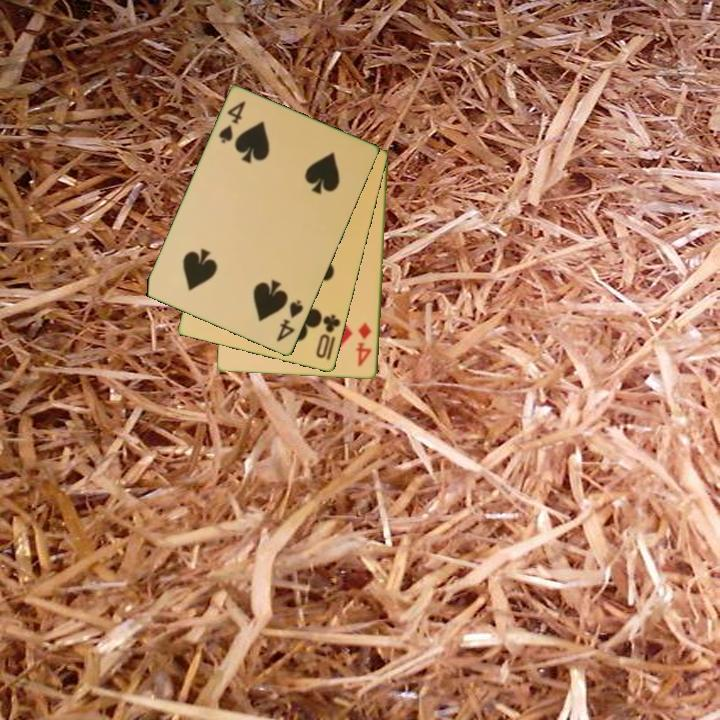10c: (312, 311, 344, 361)
4d: (353, 319, 375, 370)
4s: (215, 98, 249, 147), (273, 297, 306, 345)
